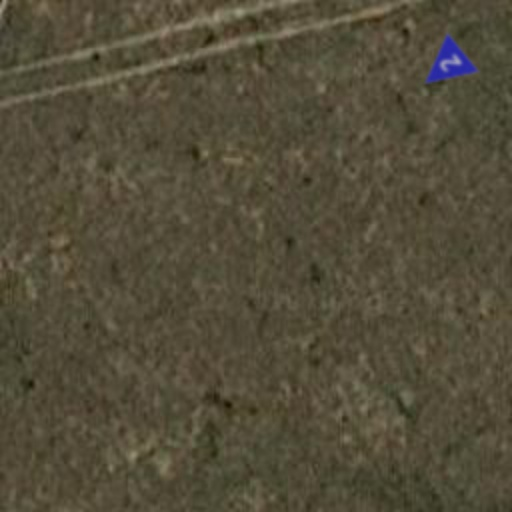triangle: (408, 32, 480, 104)
